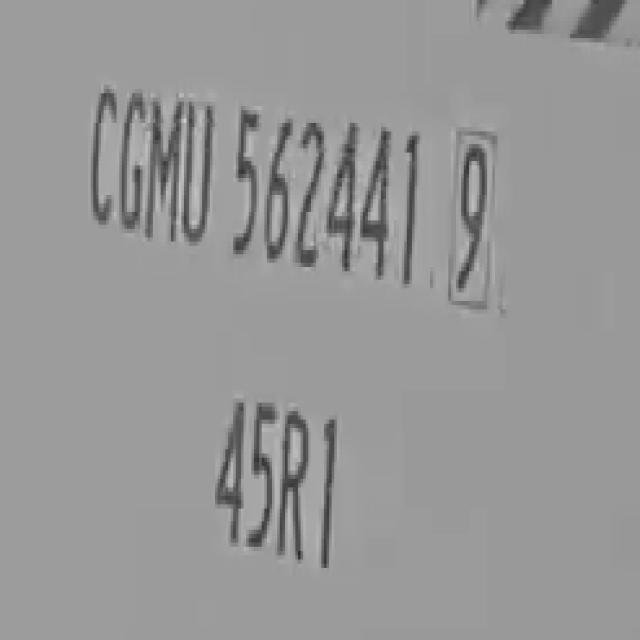dv: (445, 114, 502, 312)
owner: (84, 65, 217, 257)
serial: (225, 89, 427, 294)
size: (200, 376, 348, 582)
